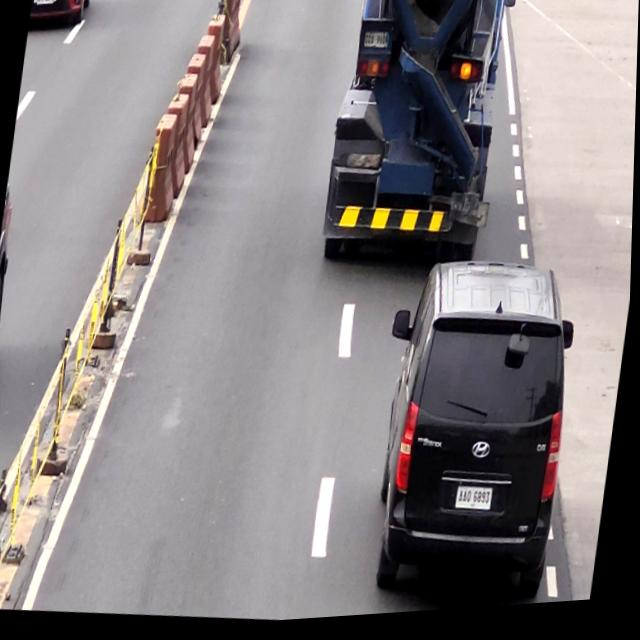Car: (359, 254, 587, 619)
License-Plate: (459, 489, 496, 519), (362, 34, 392, 56)
Truck: (318, 0, 517, 278)
